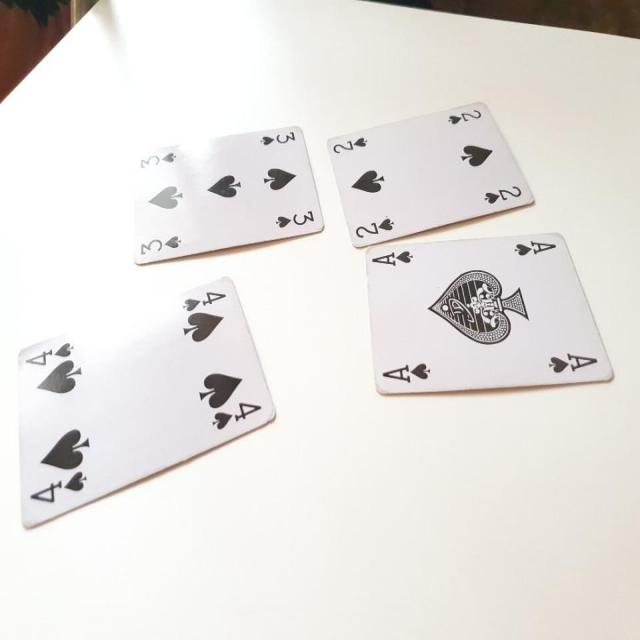2 Spades: (330, 98, 533, 245)
3 Spades: (132, 127, 325, 262)
4 Spades: (14, 280, 267, 511)
A Spades: (365, 231, 615, 397)
